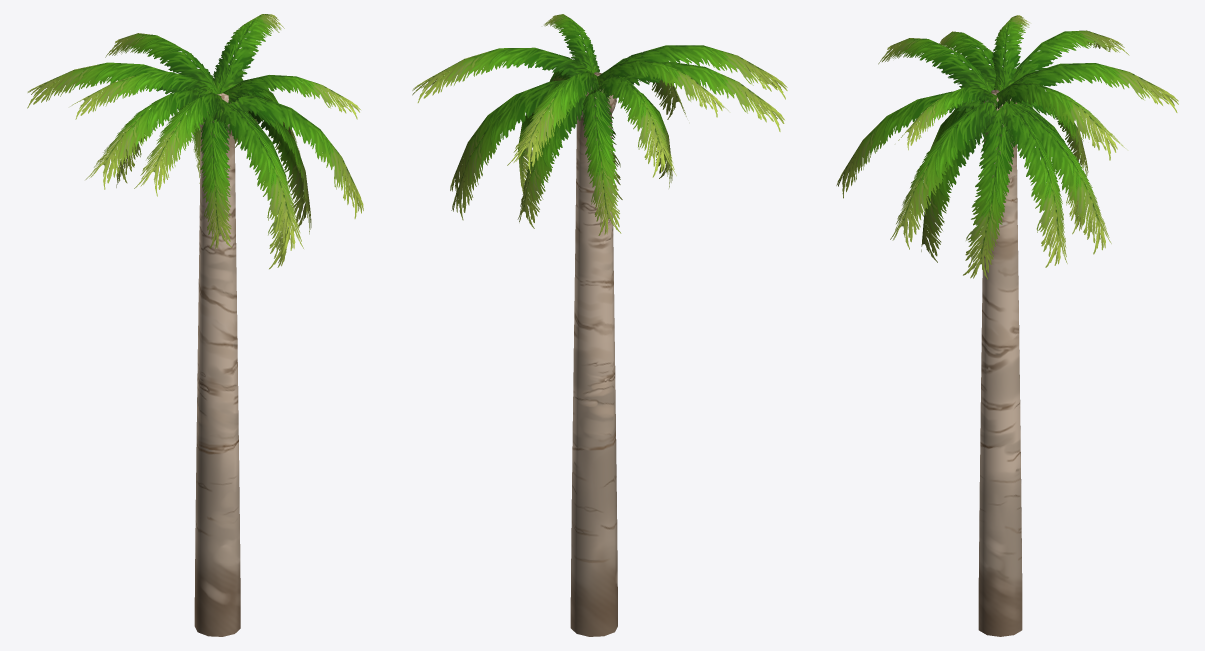
The picture shows the model from 3 angles, left to right: view 1: azimuth 30°, elevation 25°; view 2: azimuth 150°, elevation 25°; view 3: azimuth 270°, elevation 25°; orthographic projection. The views are drawn at different scales.
Parts seen in each view (by area): view 1: tree1; view 2: tree1; view 3: tree1.
Part boxes in pixels (<box>): tree1: <box>27,14,363,636</box>; tree1: <box>412,14,787,636</box>; tree1: <box>836,15,1178,636</box>.
Size of the model in its own units: 1.72 by 3.18 by 1.84.
Materials: 1 (1 with a texture image).
